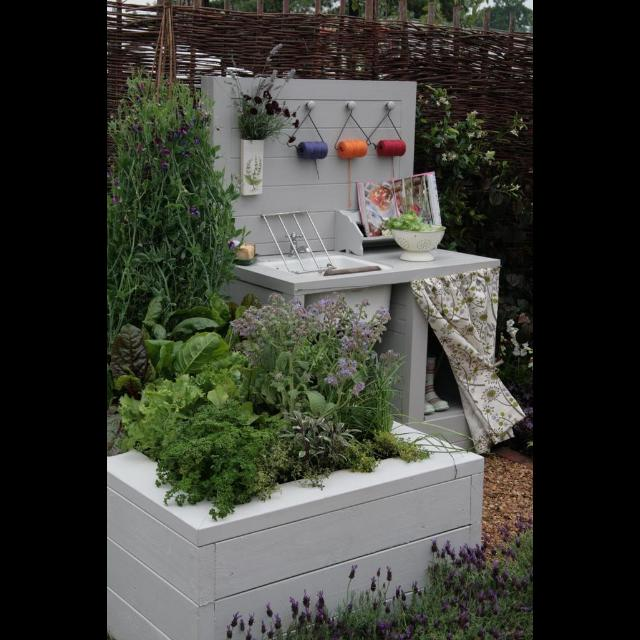Flower: (224, 511, 534, 639), (230, 291, 392, 394), (126, 102, 212, 168), (242, 89, 290, 119), (189, 205, 203, 218), (225, 240, 238, 252), (111, 177, 122, 185), (288, 137, 298, 145), (292, 119, 300, 129), (350, 566, 356, 576), (292, 110, 298, 118)
